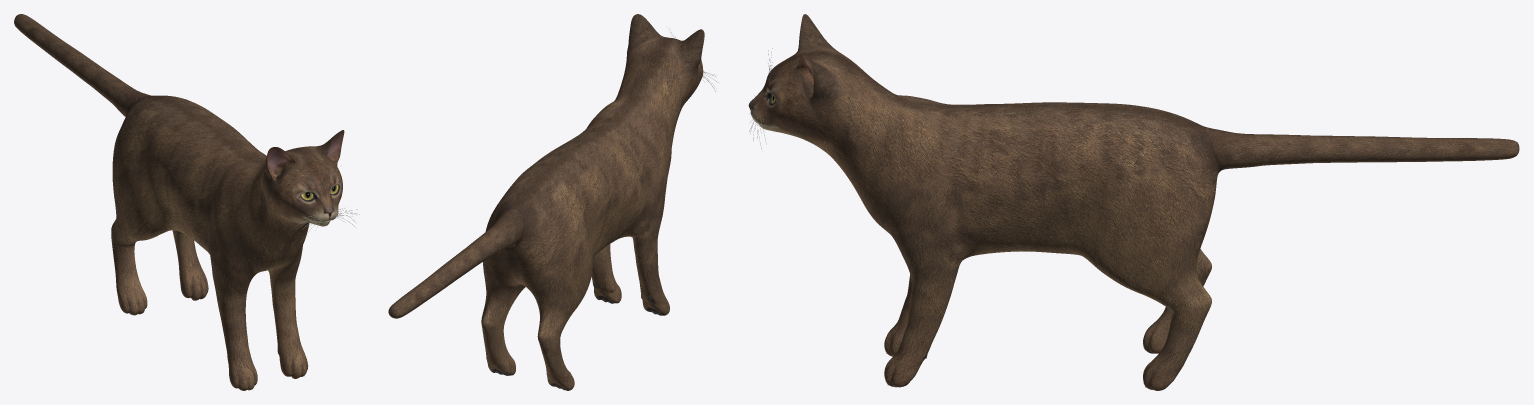
The model's file is cat.glb.
The picture shows the model from 3 angles, left to right: view 1: azimuth 30°, elevation 25°; view 2: azimuth 150°, elevation 25°; view 3: azimuth 270°, elevation 25°; orthographic projection. The views are drawn at different scales.
Parts seen in each view (by area): view 1: Object_13, Object_12, Object_14, Object_16; view 2: Object_12, Object_13, Object_14; view 3: Object_13, Object_14, Object_12.
Boxes of the visible parts, <box> form: Object_13: <box>116,95,344,273</box>; Object_12: <box>111,83,305,390</box>; Object_14: <box>14,14,309,378</box>; Object_16: <box>267,132,342,178</box>; Object_12: <box>487,29,704,390</box>; Object_13: <box>486,14,703,287</box>; Object_14: <box>388,56,686,375</box>; Object_13: <box>749,33,1223,265</box>; Object_14: <box>812,59,1519,390</box>; Object_12: <box>799,14,1264,370</box>.
Size of the model in its own units: 0.1372 by 0.3938 by 0.8205.
15 materials, 15 textured.
